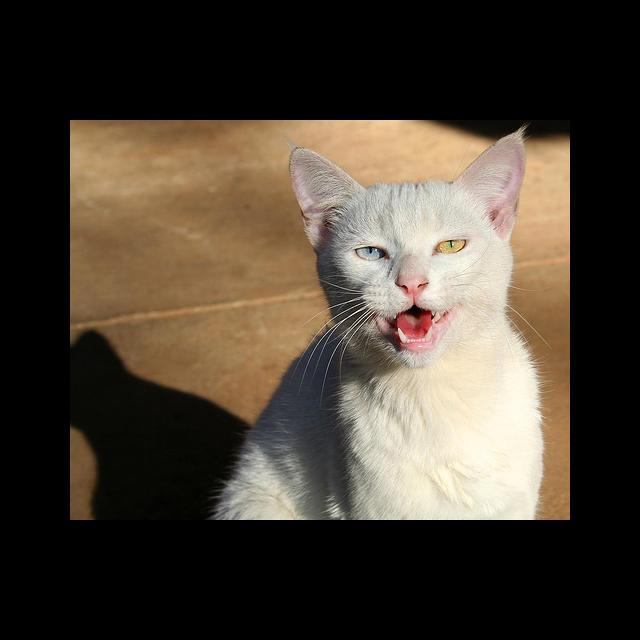animals: (297, 133, 519, 294)
